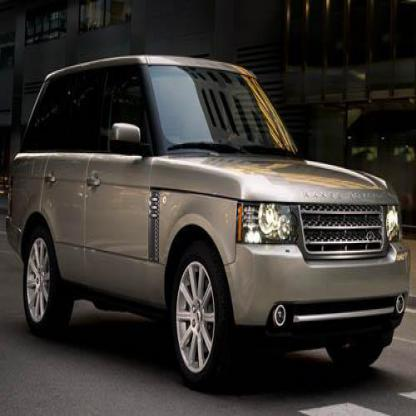Vehicle: (5, 55, 410, 391)
